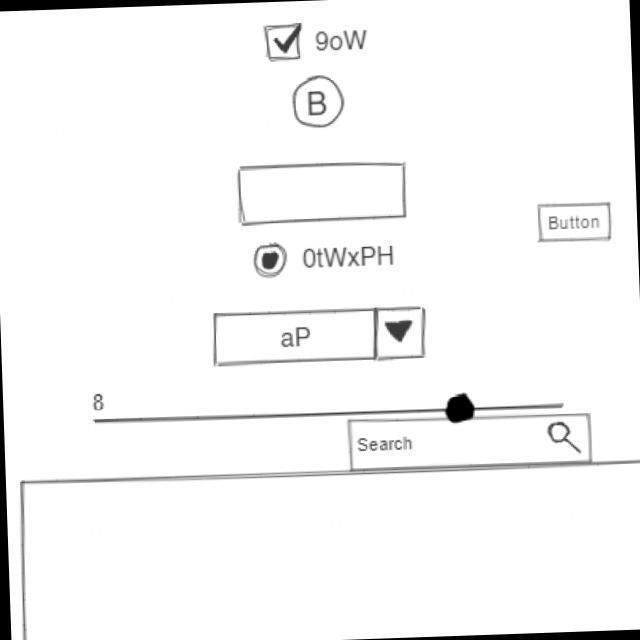button: (534, 199, 615, 245)
checkbox: (262, 19, 371, 67)
container: (14, 455, 640, 640)
icon-button: (290, 73, 346, 133)
input: (233, 156, 413, 228)
radio: (252, 241, 288, 280)
search: (347, 410, 596, 475)
select: (209, 303, 431, 371)
slider: (108, 386, 569, 439)
